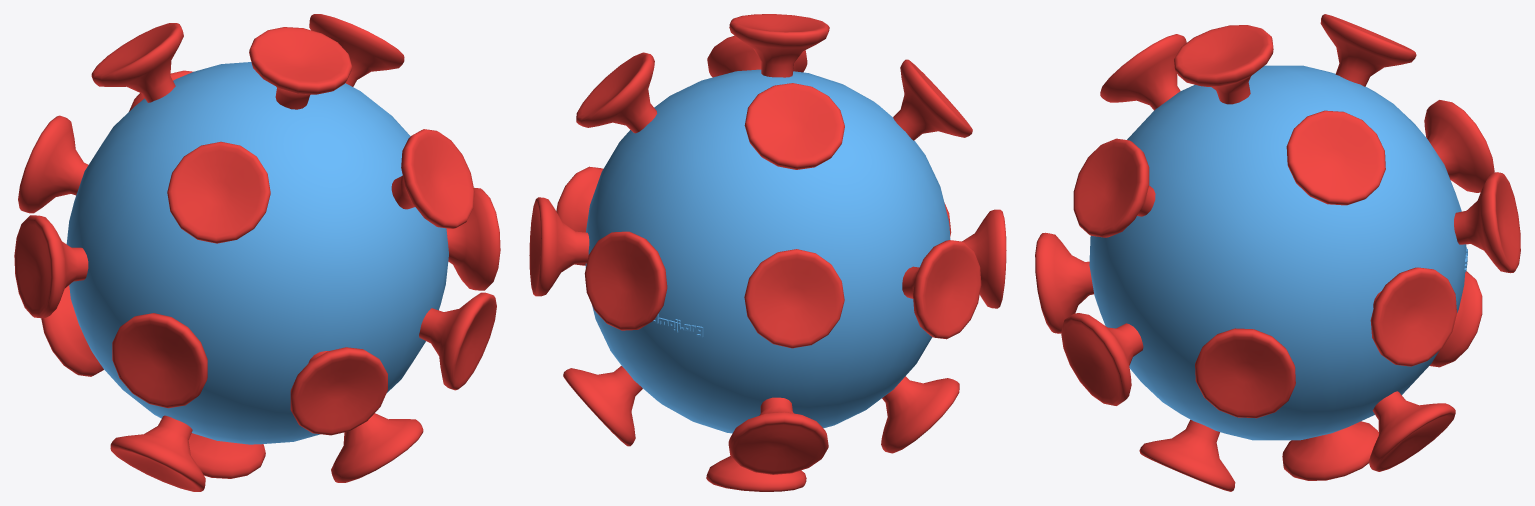
File: microbe.fbx
3 views of the same model, side by side, from view 1: azimuth 30°, elevation 25°; view 2: azimuth 150°, elevation 25°; view 3: azimuth 270°, elevation 25° (orthographic). The views are drawn at different scales.
Parts seen in each view (by area): view 1: Cube.168; view 2: Cube.168; view 3: Cube.168.
Part boxes in pixels (<box>): Cube.168: <box>14,14,500,491</box>; Cube.168: <box>529,14,1006,491</box>; Cube.168: <box>1035,14,1520,491</box>.
Bounding box in the file's own units: 221 × 221 × 220.
1 material, 1 textured.
